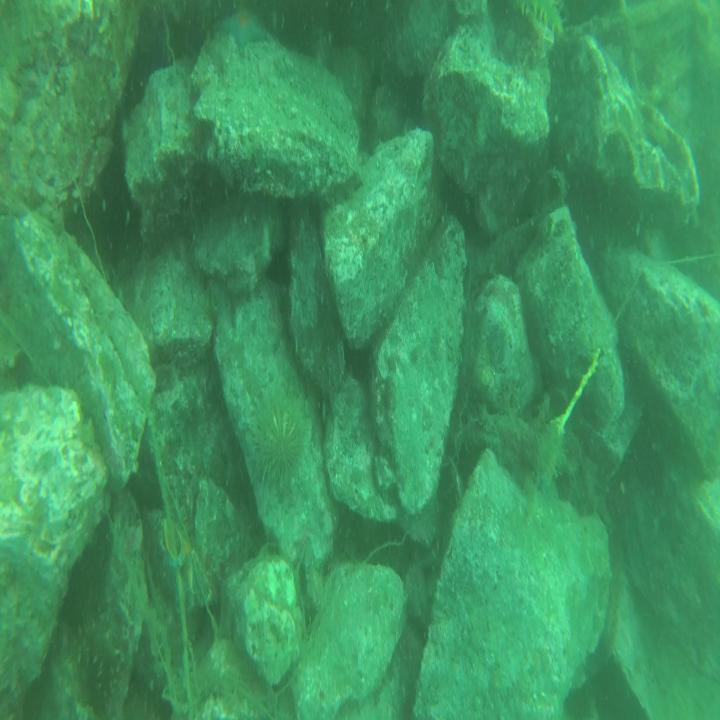echinus: (255, 408, 308, 500)
holothurian: (76, 607, 127, 713), (511, 1, 556, 47)
